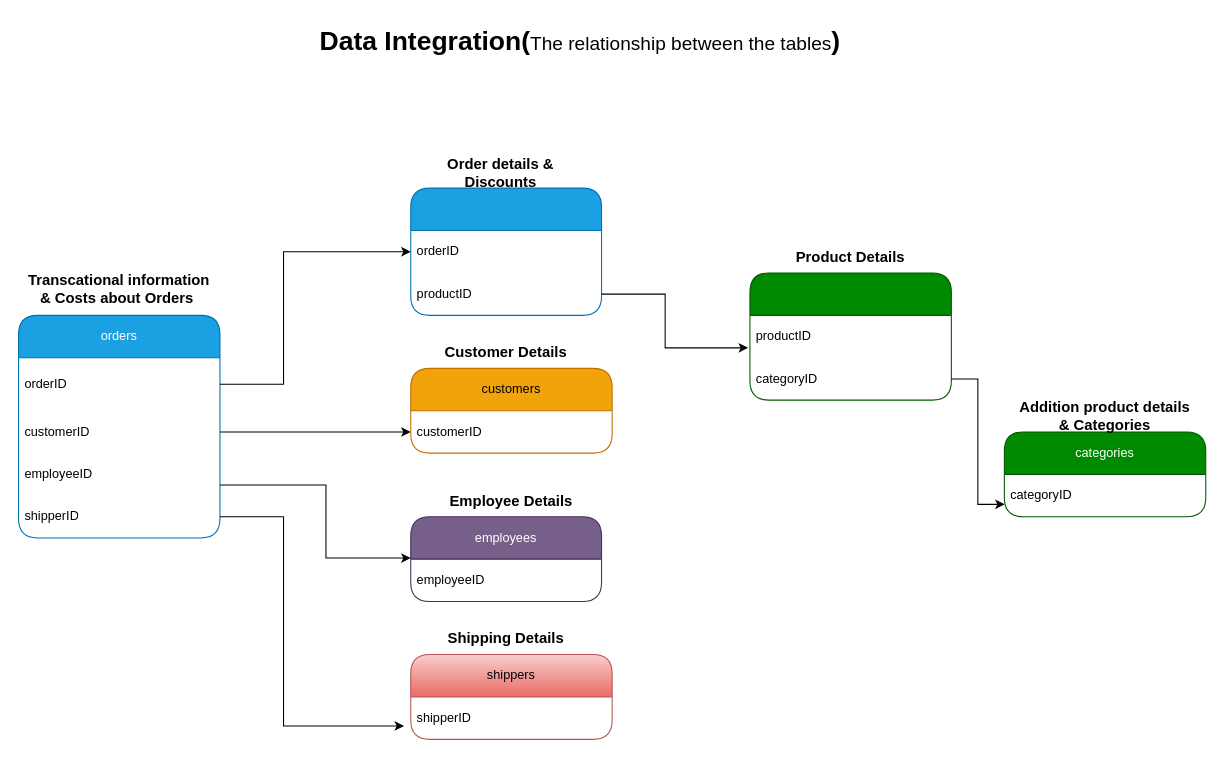
This 1224x758 diagram has some shape labels left out. The shapes that lost their labels are listed below. From the top down, each one's box as (x1, y1, x2, y2) in pixels, then its label:
(410, 187, 602, 315): order_details
(749, 272, 951, 400): products
